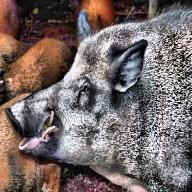boar: (12, 6, 192, 192)
